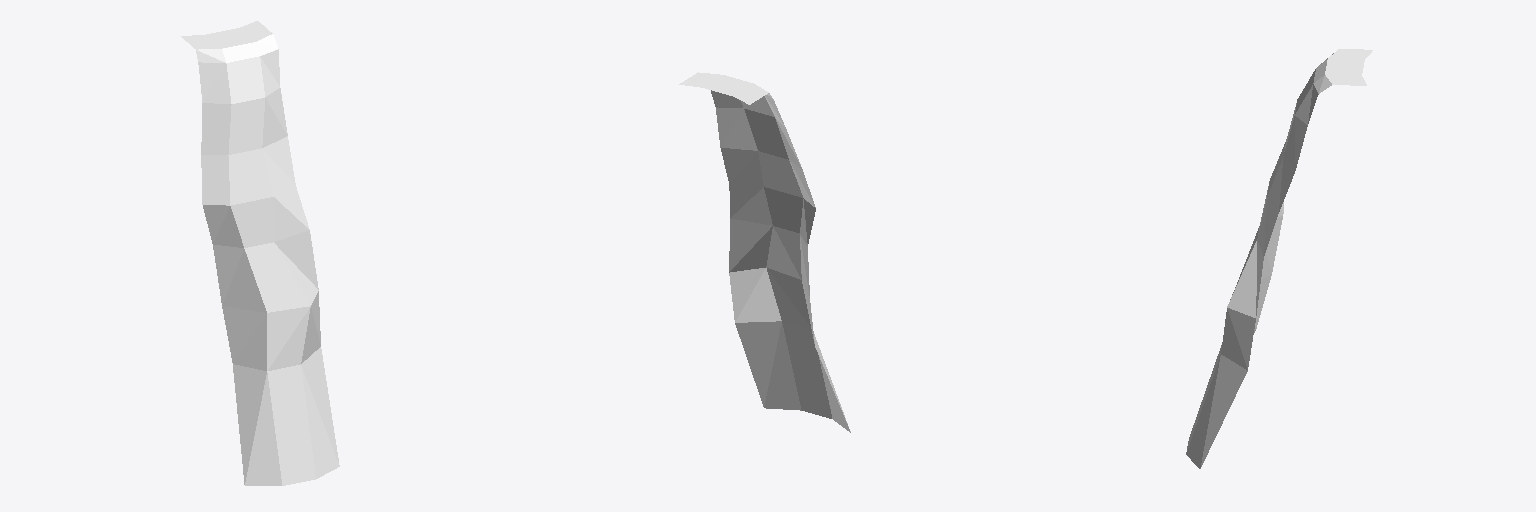
Rendered from Waterfall2.obj.
3 renders of one model, left to right at view 1: azimuth 30°, elevation 25°; view 2: azimuth 150°, elevation 25°; view 3: azimuth 270°, elevation 25°, orthographic.
Visible parts, largest first — view 1: Waterfall2; view 2: Waterfall2; view 3: Waterfall2.
Part boxes in pixels (bbox=[...]): Waterfall2: bbox=[181, 21, 339, 485]; Waterfall2: bbox=[679, 72, 850, 432]; Waterfall2: bbox=[1186, 49, 1372, 468].
Size of the model in its own units: 13.57 by 48.99 by 21.7.